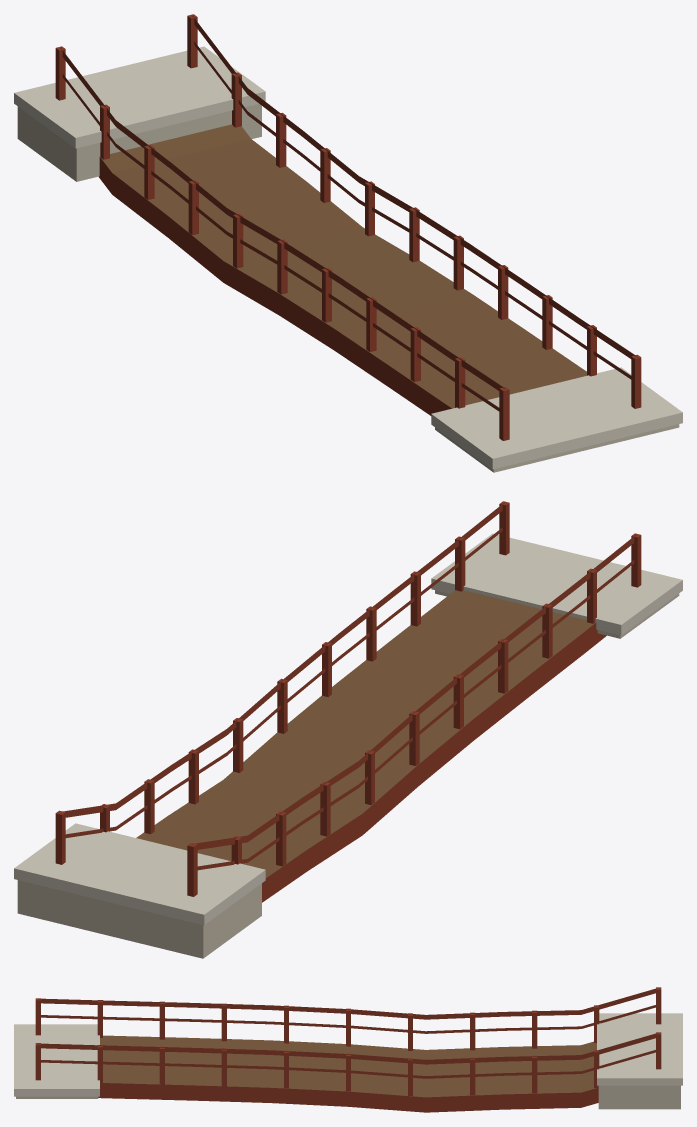
The picture shows the model from 3 angles, top to bottom: view 1: azimuth 30°, elevation 25°; view 2: azimuth 150°, elevation 25°; view 3: azimuth 270°, elevation 25°; orthographic projection. The views are drawn at different scales.
Parts seen in each view (by area): view 1: YM03-22 南大桥 Nan Da Qiao; view 2: YM03-22 南大桥 Nan Da Qiao; view 3: YM03-22 南大桥 Nan Da Qiao.
Boxes of the visible parts, x1,y1,x2,y2 form: YM03-22 南大桥 Nan Da Qiao: (14,14,682,472); YM03-22 南大桥 Nan Da Qiao: (14,501,682,958); YM03-22 南大桥 Nan Da Qiao: (14,987,682,1112).
Size of the model in its own units: 4.1 by 2.32 by 17.87.
